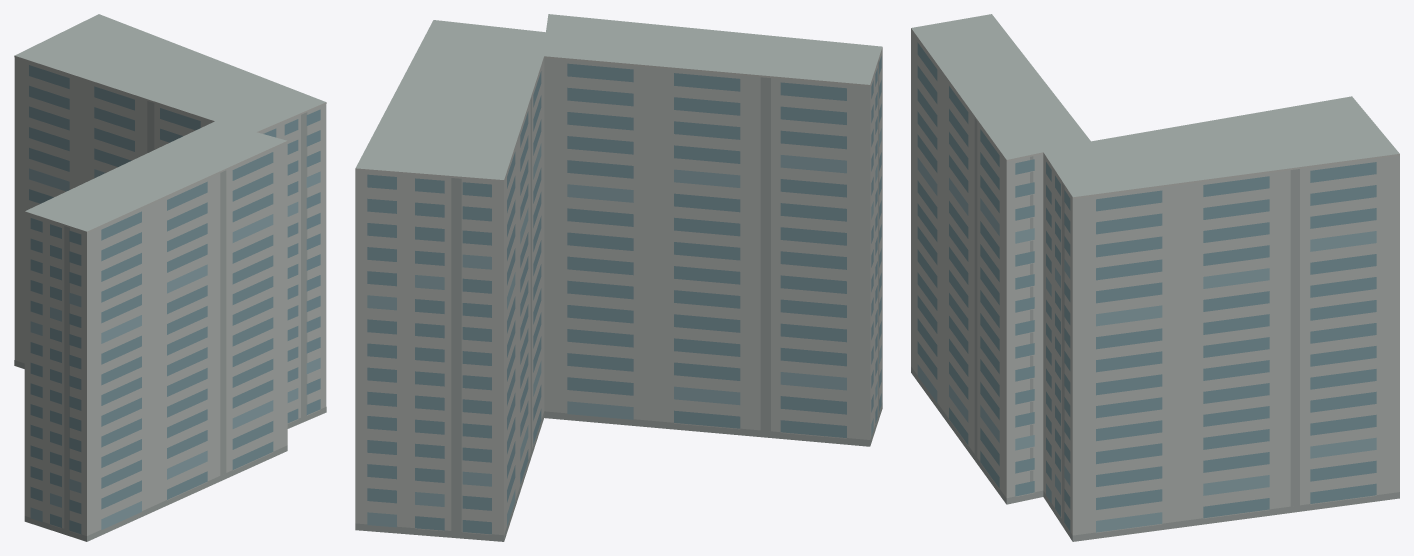
The model's file is residential-9f57f010-847b-4e7c-9244-760b68087c57.glb.
3 views of the same model, side by side, from view 1: azimuth 30°, elevation 25°; view 2: azimuth 150°, elevation 25°; view 3: azimuth 270°, elevation 25° (orthographic). The views are drawn at different scales.
Parts seen in each view (by area): view 1: residential-9f57f010-847b-4e7c-9244-760b68087c57.tmp; view 2: residential-9f57f010-847b-4e7c-9244-760b68087c57.tmp; view 3: residential-9f57f010-847b-4e7c-9244-760b68087c57.tmp.
Part boxes in pixels (<box>): residential-9f57f010-847b-4e7c-9244-760b68087c57.tmp: <box>14,14,326,541</box>; residential-9f57f010-847b-4e7c-9244-760b68087c57.tmp: <box>355,14,882,541</box>; residential-9f57f010-847b-4e7c-9244-760b68087c57.tmp: <box>911,14,1399,541</box>.
Bounding box in the file's own units: 52.18 × 45.75 × 58.82.
